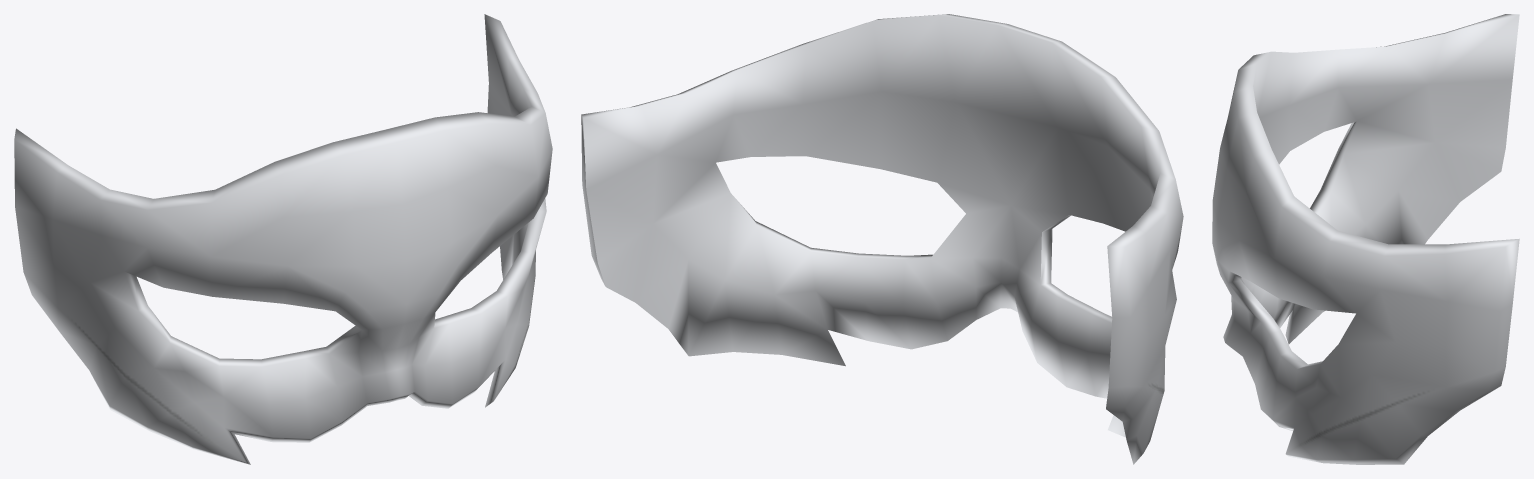
The model's file is oberon_mask.FBX.
3 renders of one model, left to right at view 1: azimuth 30°, elevation 25°; view 2: azimuth 150°, elevation 25°; view 3: azimuth 270°, elevation 25°, orthographic. The views are drawn at different scales.
Visible parts, largest first — view 1: mianju; view 2: mianju; view 3: mianju.
Boxes of the visible parts, box(x1,y1,x2,y2) form: mianju: box(14, 14, 552, 464); mianju: box(581, 14, 1183, 464); mianju: box(1212, 14, 1519, 464).
Bounding box in the file's own units: 8.5 × 5.3 × 4.7.
